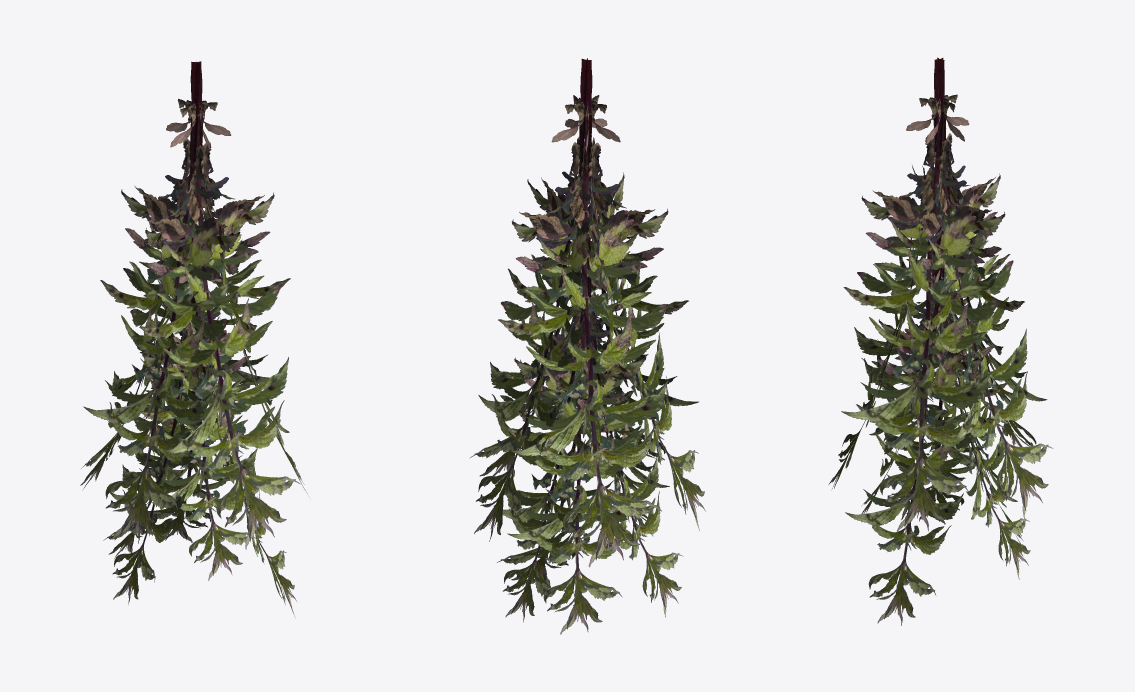
Rendered from sbush3v2.FBX.
The picture shows the model from 3 angles, left to right: view 1: azimuth 30°, elevation 25°; view 2: azimuth 150°, elevation 25°; view 3: azimuth 270°, elevation 25°; orthographic projection. The views are drawn at different scales.
Visible parts, largest first — view 1: bush, bush004, bush008, bush002, bush007, bush003, bush005, bush006, bush001, bush009; view 2: bush003, bush002, bush006, bush004, bush005, bush001, bush, bush007, bush009, bush008; view 3: bush001, bush002, bush009, bush004, bush003, bush005, bush007, bush, bush006, bush008.
Part boxes in pixels (<box>): bush: <box>139,61,300,549</box>; bush004: <box>83,62,240,543</box>; bush008: <box>139,264,257,580</box>; bush002: <box>121,61,290,456</box>; bush007: <box>110,275,214,604</box>; bush003: <box>80,63,203,490</box>; bush005: <box>131,237,250,542</box>; bush006: <box>103,238,219,558</box>; bush001: <box>196,61,307,494</box>; bush009: <box>197,222,296,618</box>; bush003: <box>498,60,669,567</box>; bush002: <box>474,60,599,541</box>; bush006: <box>505,237,646,634</box>; bush004: <box>586,58,705,530</box>; bush005: <box>493,308,611,622</box>; bush001: <box>469,60,624,477</box>; bush: <box>527,59,698,472</box>; bush007: <box>572,264,683,617</box>; bush009: <box>497,279,625,586</box>; bush008: <box>573,266,669,536</box>; bush001: <box>841,59,1005,532</box>; bush002: <box>915,58,1053,519</box>; bush009: <box>845,216,983,625</box>; bush004: <box>854,59,1010,441</box>; bush003: <box>912,57,1047,463</box>; bush005: <box>932,268,1030,579</box>; bush007: <box>878,232,1006,524</box>; bush: <box>828,60,939,488</box>; bush006: <box>941,268,1022,543</box>; bush008: <box>861,230,938,514</box>.
Size of the model in its own units: 30.09 by 53.87 by 28.81.
1 material, 1 textured.
